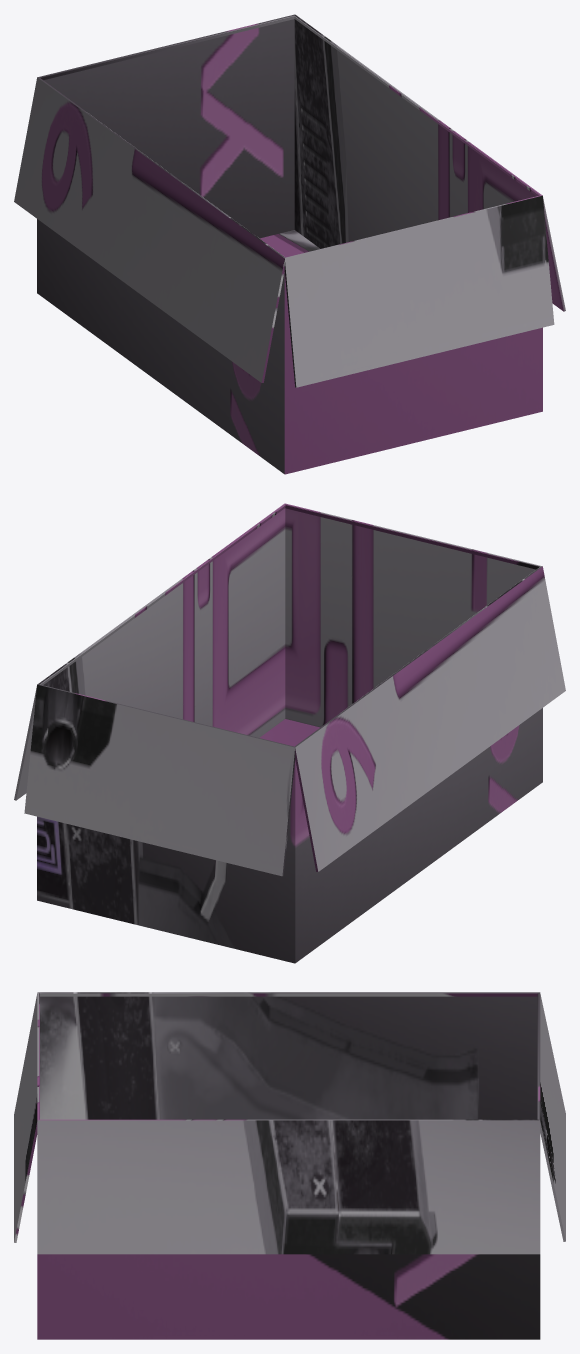
File: SM_CarboardBoxBO.fbx
3 renders of one model, top to bottom at view 1: azimuth 30°, elevation 25°; view 2: azimuth 150°, elevation 25°; view 3: azimuth 270°, elevation 25°, orthographic.
Visible parts, largest first — view 1: Box Large, Box Large - Lid long; view 2: Box Large, Box Large - Lid long; view 3: Box Large, Box Large - Lid long.
Boxes of the visible parts, left/top/right/bottom form: Box Large: left=37, top=14, right=542, bottom=474; Box Large - Lid long: left=14, top=15, right=565, bottom=387; Box Large: left=37, top=503, right=542, bottom=963; Box Large - Lid long: left=14, top=504, right=565, bottom=876; Box Large: left=37, top=992, right=540, bottom=1339; Box Large - Lid long: left=14, top=993, right=565, bottom=1254.
Bounding box in the file's own units: 142 × 219 × 96.
